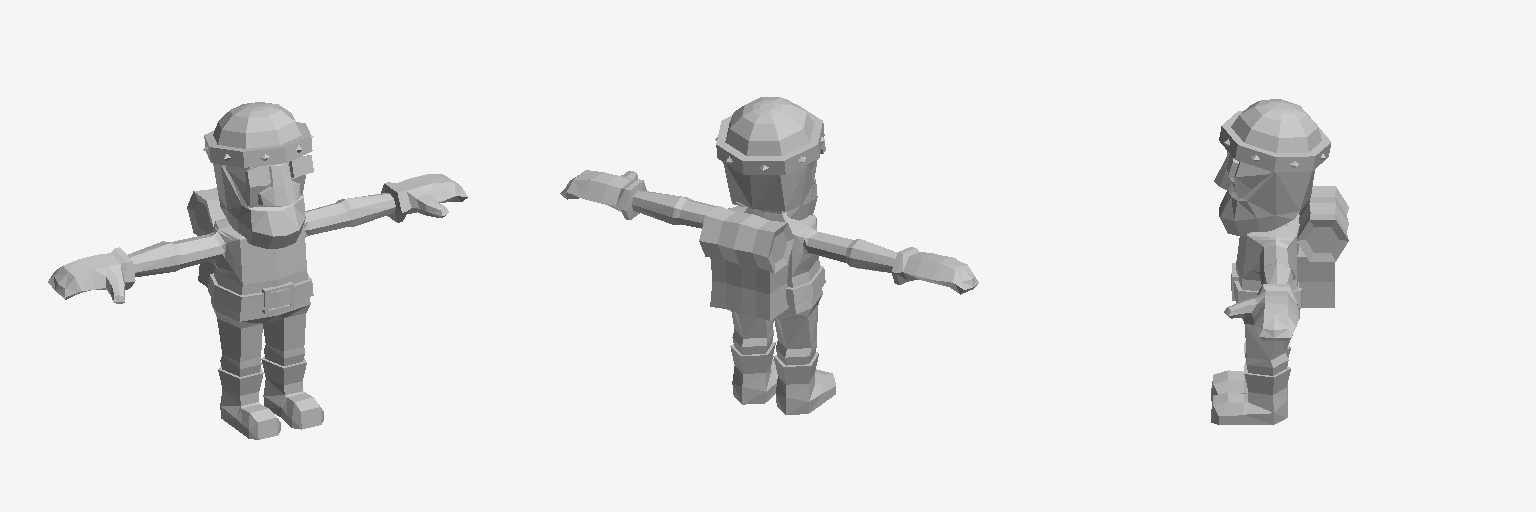
Rendered from dwarf.obj.
3 renders of one model, left to right at view 1: azimuth 30°, elevation 25°; view 2: azimuth 150°, elevation 25°; view 3: azimuth 270°, elevation 25°, orthographic.
Parts seen in each view (by area): view 1: Dwarf_Cube.002; view 2: Dwarf_Cube.002; view 3: Dwarf_Cube.002.
Boxes of the visible parts, x1,y1,x2,y2 form: Dwarf_Cube.002: [48, 102, 467, 439]; Dwarf_Cube.002: [560, 97, 978, 414]; Dwarf_Cube.002: [1211, 99, 1348, 424].
Size of the model in its own units: 3.65 by 2.6 by 1.08.